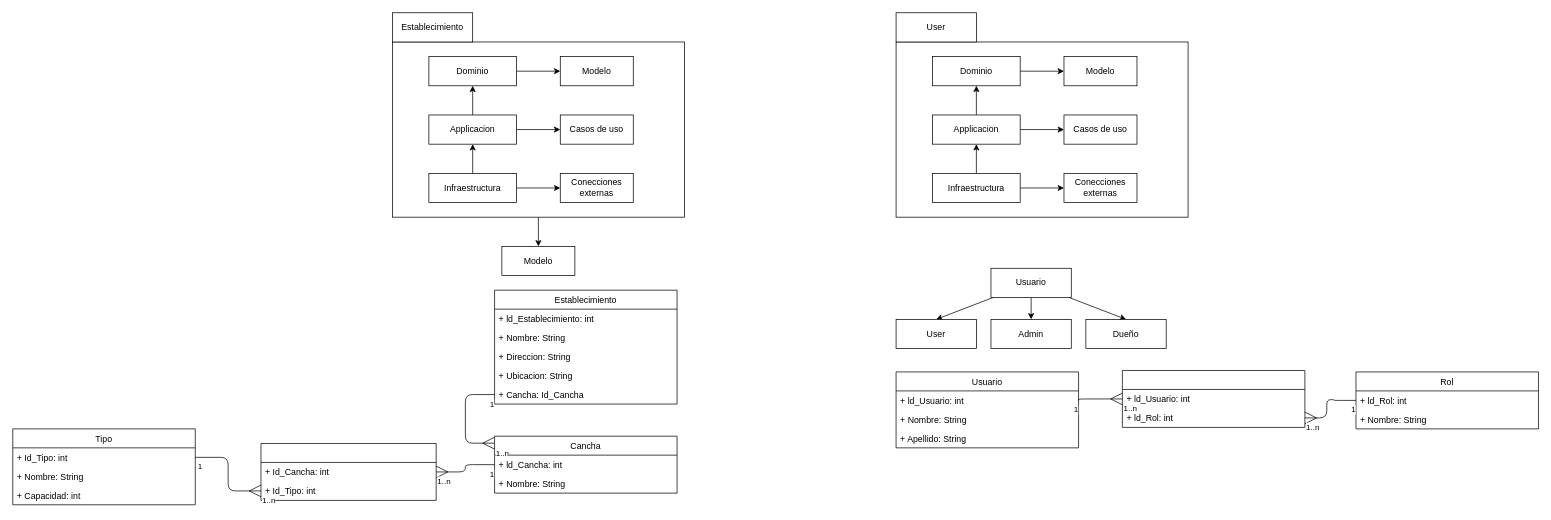
This 1551x520 diagram has some shape labels left out. The shapes that lost their labels are listed below. From the top down, each one's box as (x1, y1, x2, y2) in pixels, then its label:
(1122, 370, 1305, 427): Usuario_Rol
(260, 443, 436, 500): Cancha_Tipo
